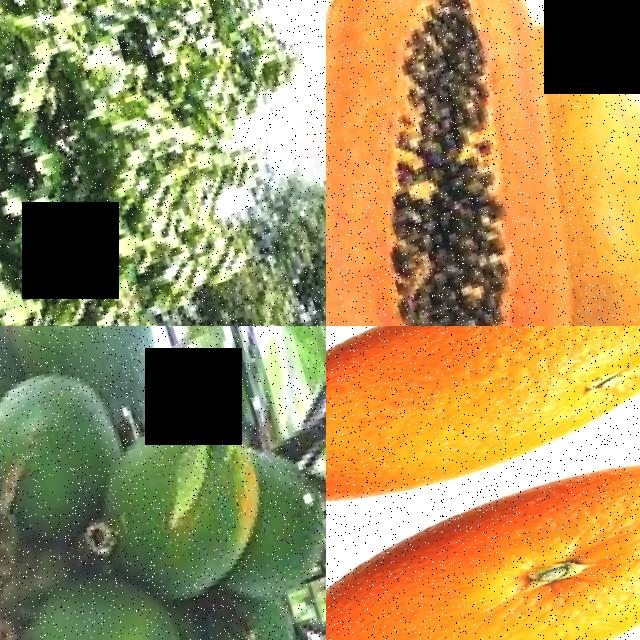orange: (326, 326, 640, 563), (326, 414, 640, 640)
pawpaw: (326, 0, 620, 326), (95, 409, 281, 620), (520, 0, 640, 326), (0, 353, 133, 551), (0, 558, 196, 640), (0, 326, 154, 386)
